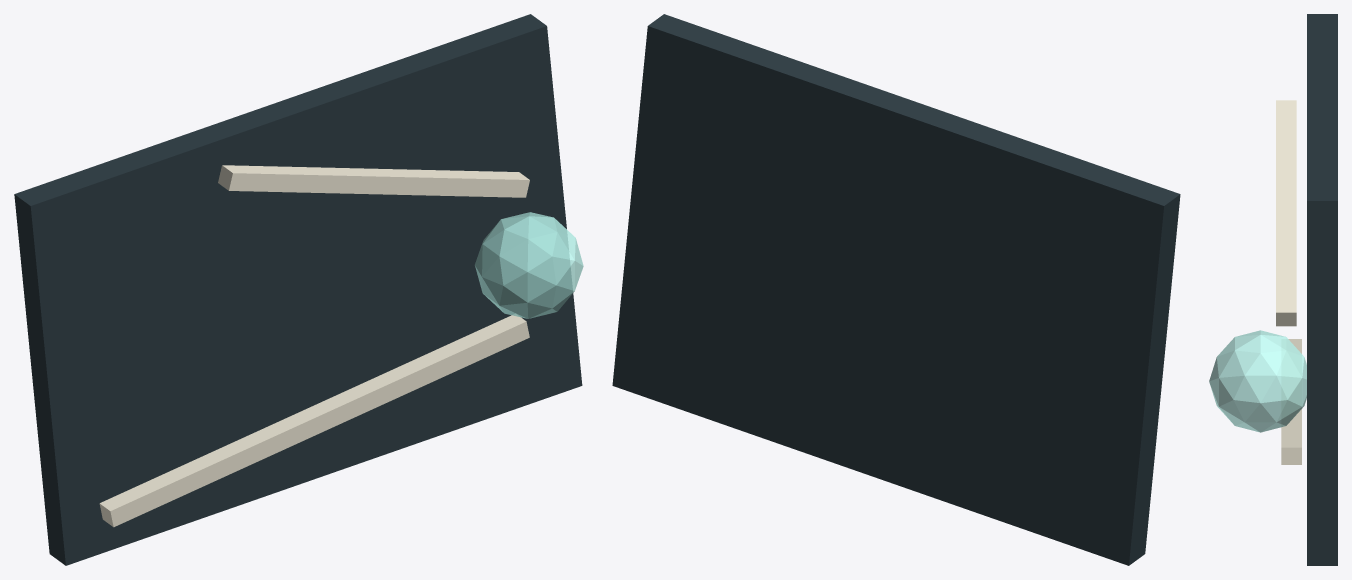
File: 02_world_prop_polish.glb
The picture shows the model from 3 angles, left to right: view 1: azimuth 30°, elevation 25°; view 2: azimuth 150°, elevation 25°; view 3: azimuth 270°, elevation 25°; orthographic projection. The views are drawn at different scales.
Parts seen in each view (by area): view 1: object_overlay_plate, edge_wear_a, glow_socket, edge_wear_b; view 2: object_overlay_plate; view 3: object_overlay_plate, glow_socket, edge_wear_b, edge_wear_a.
Part boxes in pixels (box(x1,y1,x2,y2)): object_overlay_plate: box(14, 14, 582, 565); edge_wear_a: box(99, 314, 529, 527); glow_socket: box(475, 212, 583, 318); edge_wear_b: box(218, 165, 529, 197); object_overlay_plate: box(612, 14, 1180, 565); object_overlay_plate: box(1307, 14, 1337, 565); glow_socket: box(1209, 330, 1306, 432); edge_wear_b: box(1276, 100, 1296, 326); edge_wear_a: box(1281, 339, 1301, 464).
Size of the model in its own units: 1.17 by 0.856 by 0.25.
